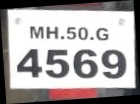character: (16, 48, 42, 78), (44, 48, 69, 78), (101, 48, 125, 79), (72, 49, 97, 78), (29, 25, 44, 39), (46, 25, 58, 40), (95, 27, 108, 40), (66, 26, 76, 40), (77, 27, 87, 40)
